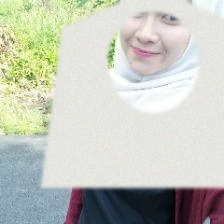Mukena: (42, 0, 224, 188)
